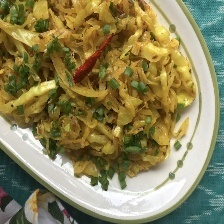sabzi: (0, 0, 218, 200)
